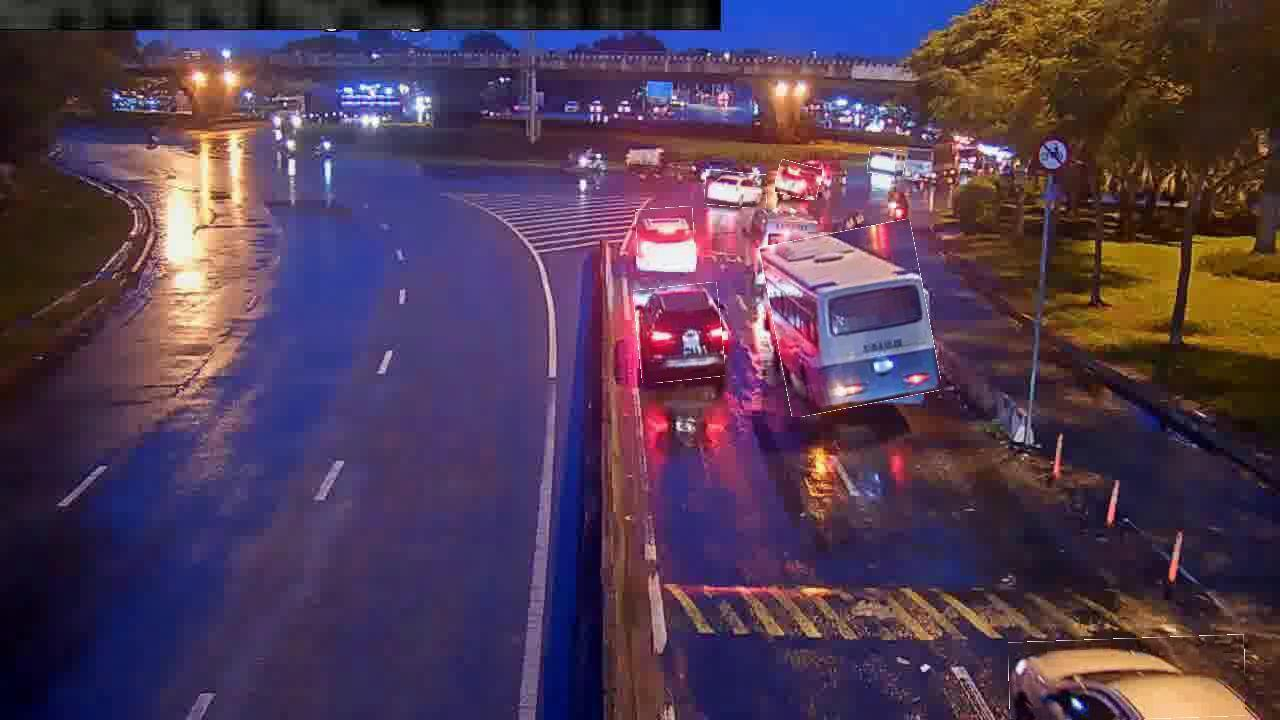14: (767, 226, 935, 412)
container: (1008, 636, 1246, 719), (636, 284, 724, 382), (636, 207, 695, 268), (705, 172, 768, 208), (776, 162, 822, 199), (868, 148, 906, 176)
